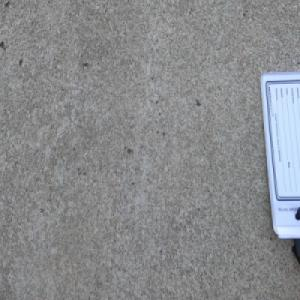LuggageTag: (258, 67, 300, 266)
